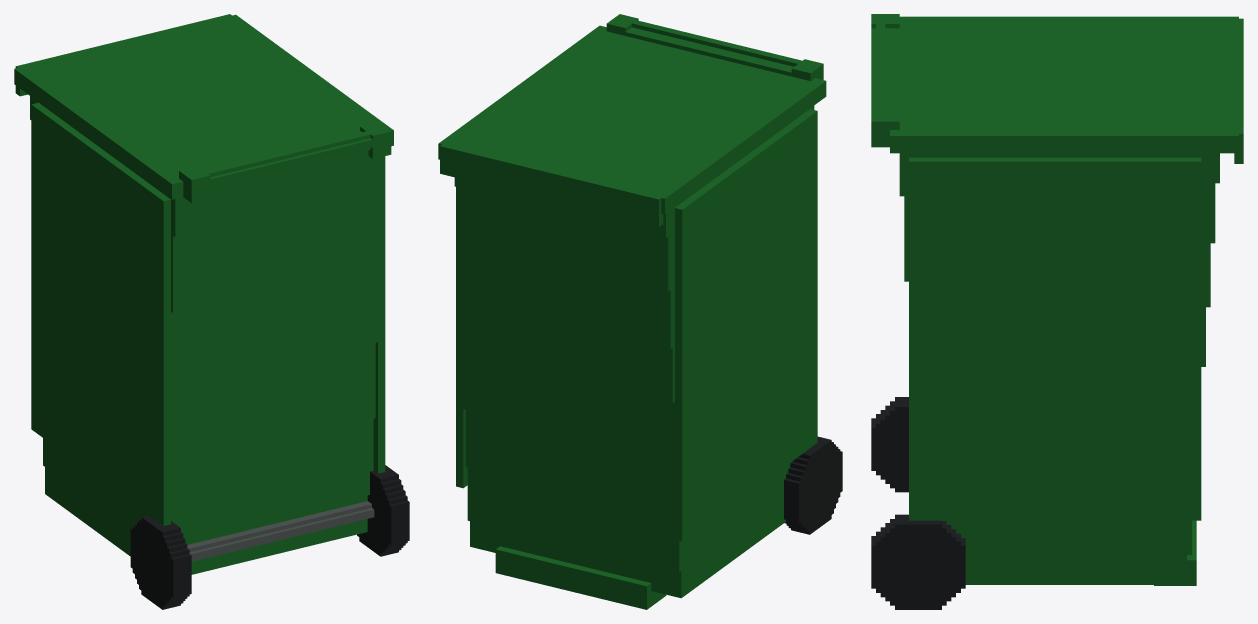
File: trashcan_large.glb
3 renders of one model, left to right at view 1: azimuth 30°, elevation 25°; view 2: azimuth 150°, elevation 25°; view 3: azimuth 270°, elevation 25°, orthographic. The views are drawn at different scales.
Visible parts, largest first — view 1: trashcan_large:compound; view 2: trashcan_large:compound; view 3: trashcan_large:compound.
Part boxes in pixels (x1=…): trashcan_large:compound: x1=14, y1=14, x2=409, y2=609; trashcan_large:compound: x1=438, y1=14, x2=842, y2=609; trashcan_large:compound: x1=871, y1=14, x2=1243, y2=609.
Bounding box in the file's own units: 0.64 × 1.12 × 0.79.
